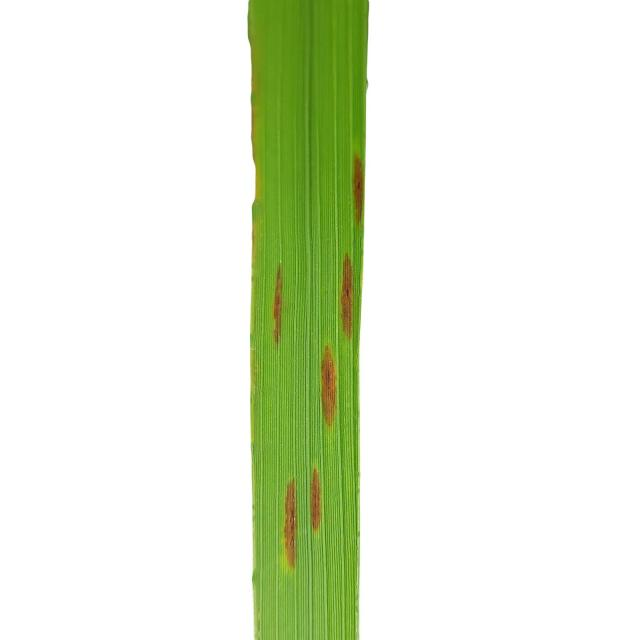Narrow brown: (196, 0, 443, 632)
